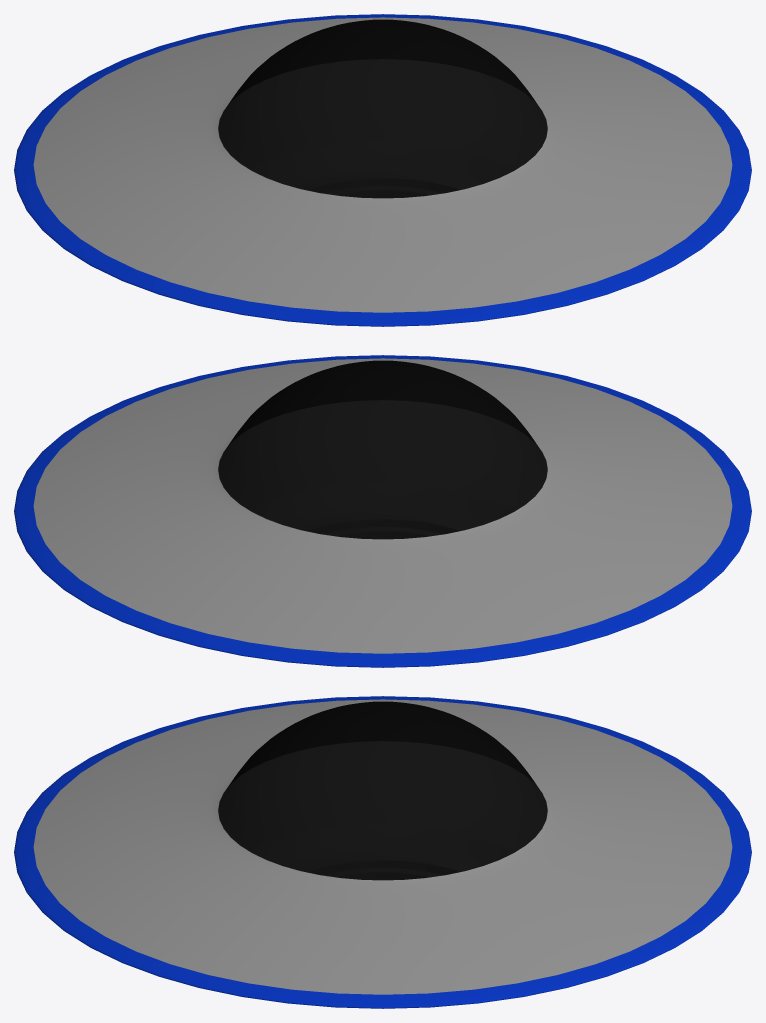
The model's file is small saucer.fbx.
3 renders of one model, top to bottom at view 1: azimuth 30°, elevation 25°; view 2: azimuth 150°, elevation 25°; view 3: azimuth 270°, elevation 25°, orthographic.
Parts seen in each view (by area): view 1: pSphere2; view 2: pSphere2; view 3: pSphere2.
Boxes of the visible parts, bbox=[...] form: pSphere2: bbox=[14, 14, 751, 326]; pSphere2: bbox=[14, 355, 751, 667]; pSphere2: bbox=[14, 696, 751, 1008].
Size of the model in its own units: 4.08 by 1.28 by 4.08.
